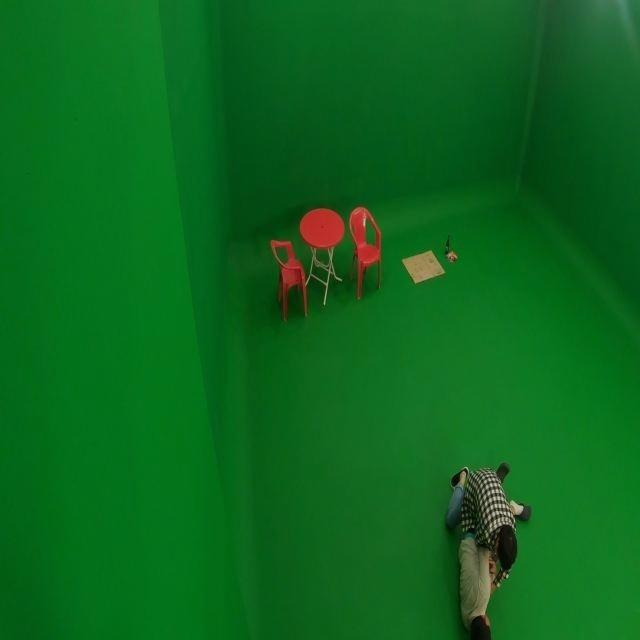fight: (441, 460, 531, 639)
